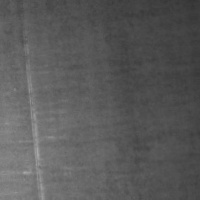scratches: (22, 39, 48, 200)
